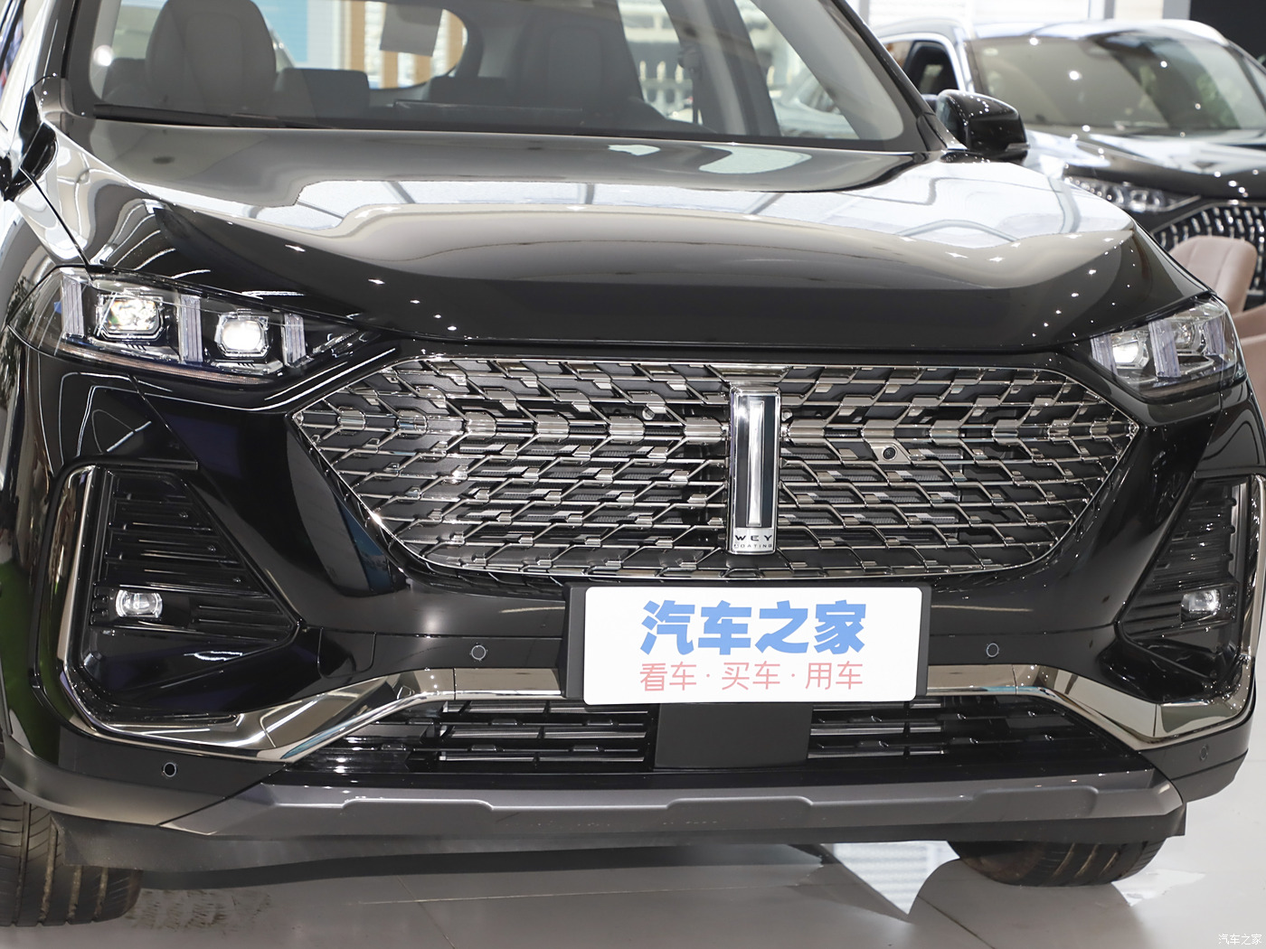WEY: (733, 392, 779, 553)
